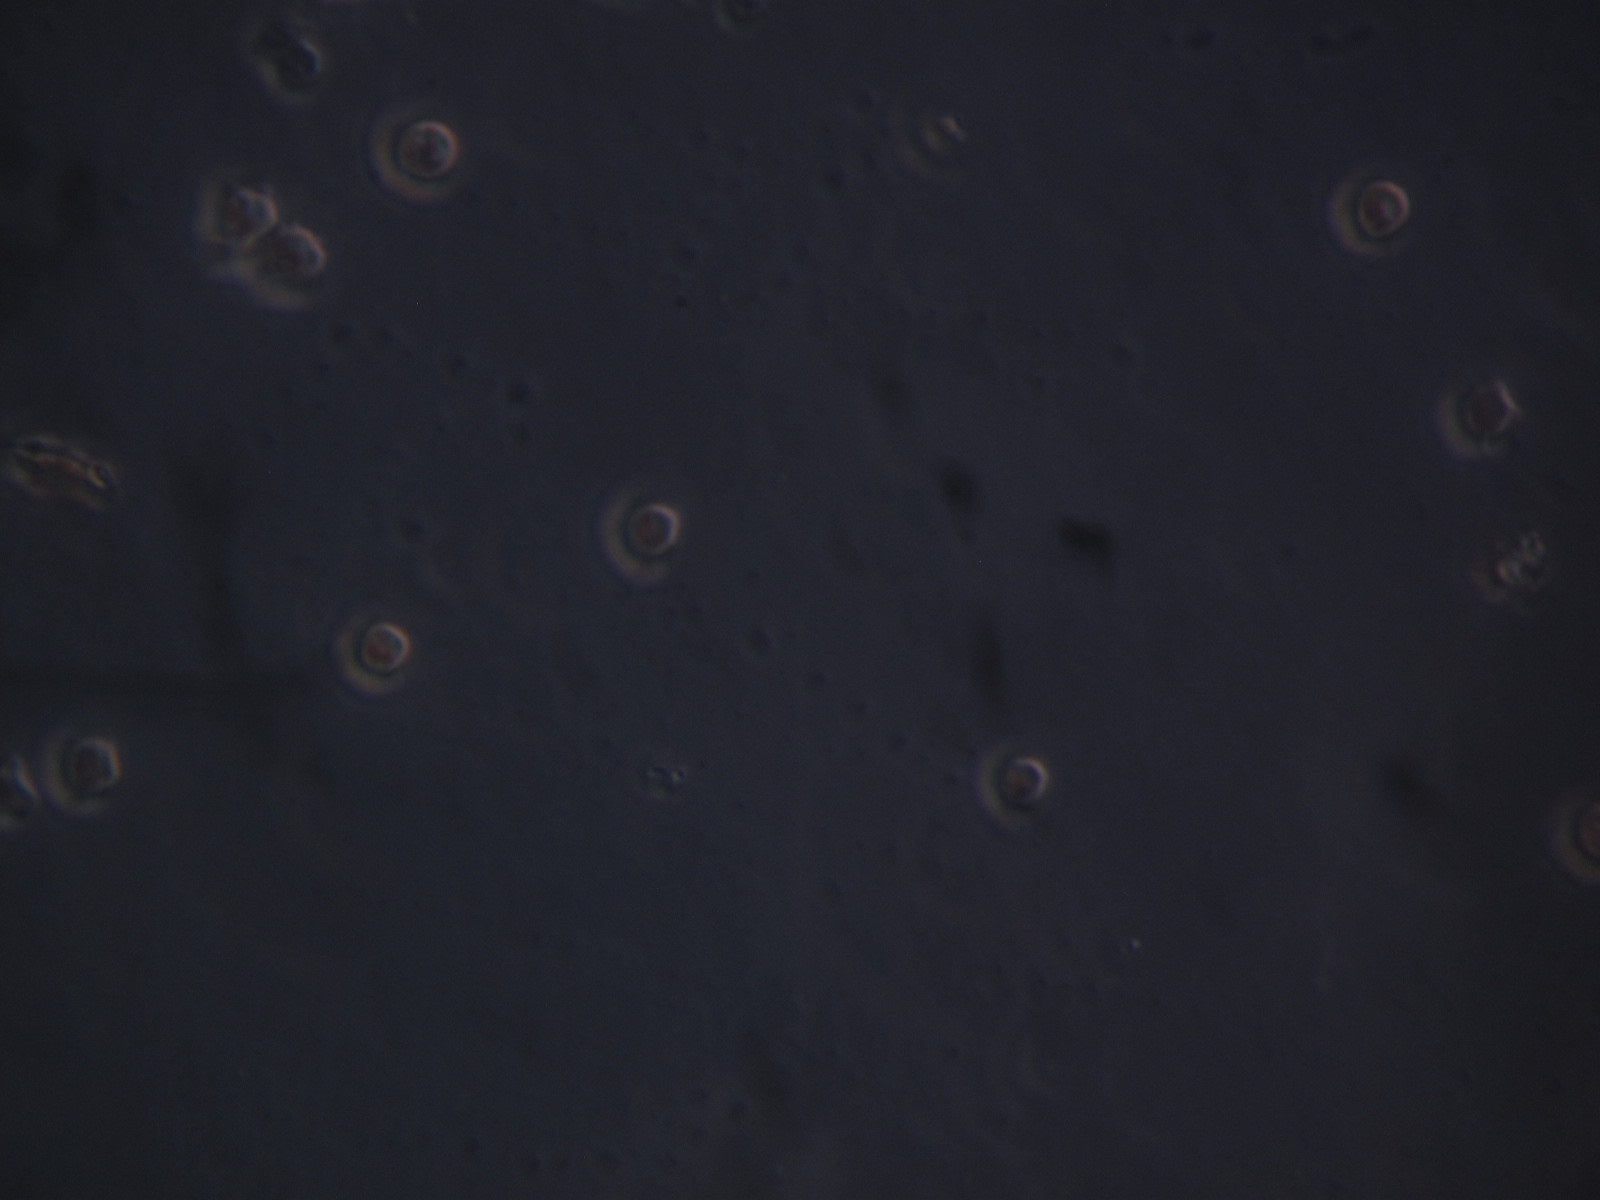hemo: (369, 100, 460, 202), (42, 721, 122, 823), (603, 488, 682, 584), (974, 740, 1049, 837), (1330, 169, 1412, 258), (328, 608, 411, 695), (249, 223, 330, 309), (1437, 376, 1514, 460), (198, 178, 281, 248), (263, 40, 323, 102)
